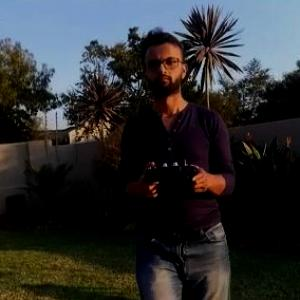follow: (118, 24, 241, 299)
